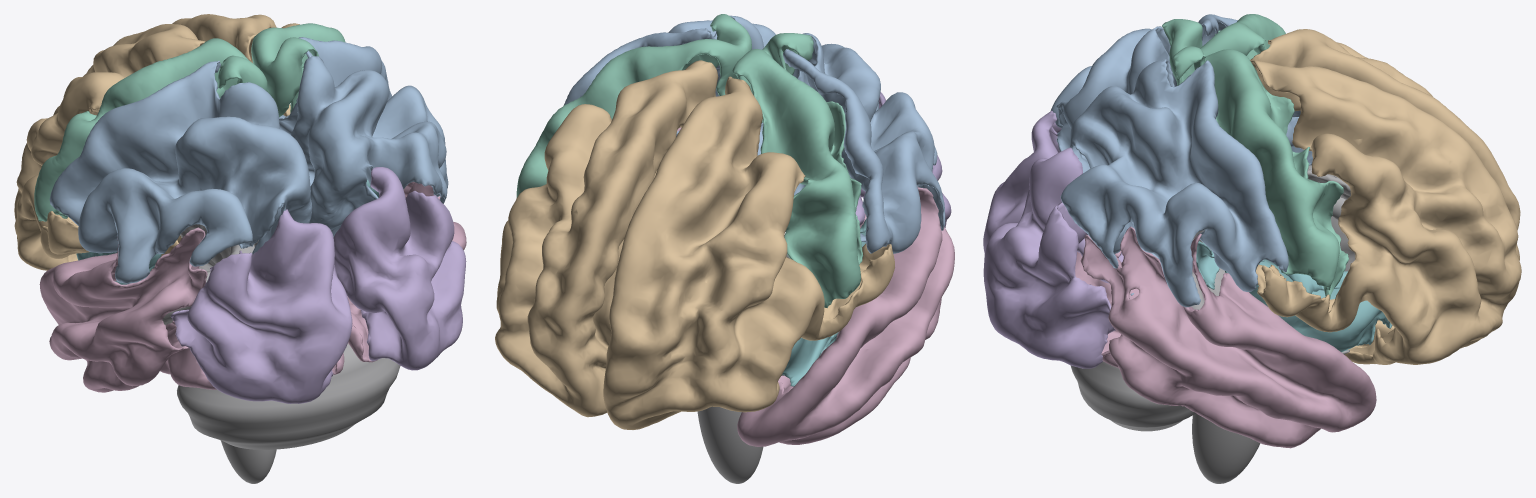
Rendered from mind.glb.
3 views of the same model, side by side, from view 1: azimuth 30°, elevation 25°; view 2: azimuth 150°, elevation 25°; view 3: azimuth 270°, elevation 25° (orthographic).
Visible parts, largest first — view 1: left-bridge, left-vision, right-bridge, right-vision, left-audio, left-frontal, Cerebellum, left-motor, right-motor, right-frontal, right-audio, Brainstem (+1 smaller); view 2: left-frontal, right-frontal, left-audio, left-motor, left-bridge, right-motor, Brainstem, right-bridge, left-root, left-vision; view 3: right-frontal, right-bridge, right-audio, right-vision, right-motor, left-frontal, left-bridge, Cerebellum, right-root, left-motor, left-vision, Brainstem (+1 smaller).
Boxes of the visible parts, bbox=[...] form: left-bridge: bbox=[49, 60, 312, 283]; left-vision: bbox=[170, 209, 352, 403]; right-bridge: bbox=[279, 37, 448, 236]; right-vision: bbox=[333, 167, 466, 370]; left-audio: bbox=[39, 227, 344, 392]; left-frontal: bbox=[14, 24, 205, 270]; Cerebellum: bbox=[177, 343, 400, 449]; left-motor: bbox=[34, 38, 267, 221]; right-motor: bbox=[251, 23, 345, 117]; right-frontal: bbox=[172, 14, 299, 242]; right-audio: bbox=[347, 181, 466, 362]; Brainstem: bbox=[220, 440, 276, 483]; left-frontal: bbox=[603, 76, 894, 429]; right-frontal: bbox=[495, 60, 718, 417]; left-audio: bbox=[737, 186, 954, 446]; left-motor: bbox=[732, 33, 863, 307]; left-bridge: bbox=[757, 33, 945, 253]; right-motor: bbox=[516, 14, 751, 197]; Brainstem: bbox=[697, 406, 763, 483]; right-bridge: bbox=[563, 15, 775, 136]; left-root: bbox=[782, 218, 866, 386]; left-vision: bbox=[855, 92, 951, 227]; right-frontal: bbox=[1250, 59, 1521, 364]; right-bridge: bbox=[1060, 59, 1312, 307]; right-audio: bbox=[1075, 226, 1376, 448]; right-vision: bbox=[983, 147, 1123, 368]; right-motor: bbox=[1173, 46, 1348, 298]; left-frontal: bbox=[1251, 29, 1520, 260]; left-bridge: bbox=[1050, 14, 1300, 151]; Cerebellum: bbox=[1070, 361, 1195, 431]; right-root: bbox=[1196, 241, 1392, 352]; left-motor: bbox=[1162, 14, 1285, 80]; left-vision: bbox=[983, 110, 1061, 253]; Brainstem: bbox=[1192, 413, 1260, 483].
Size of the model in its own units: 3.07 by 3.54 by 3.86.
